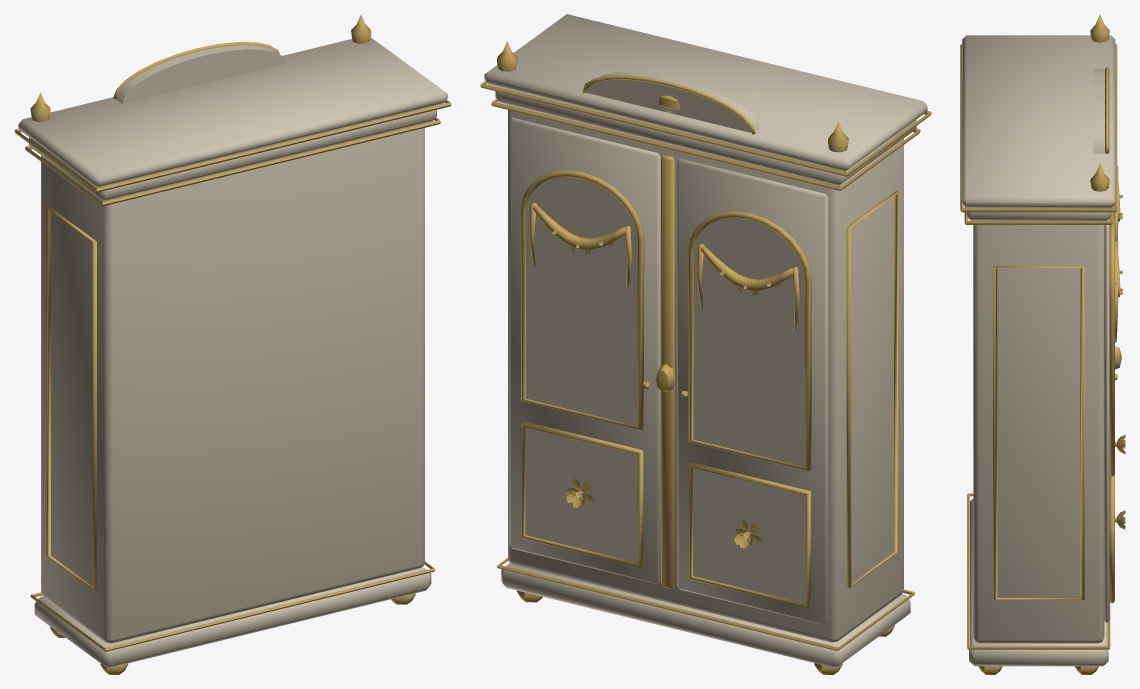
File: armoire_ivory.glb
3 renders of one model, left to right at view 1: azimuth 30°, elevation 25°; view 2: azimuth 150°, elevation 25°; view 3: azimuth 270°, elevation 25°, orthographic. The views are drawn at different scales.
Visible parts, largest first — view 1: armoire_ivory; view 2: armoire_ivory; view 3: armoire_ivory.
Part boxes in pixels (x1,y1,x2,y2): armoire_ivory: (14, 14, 451, 674); armoire_ivory: (480, 14, 931, 674); armoire_ivory: (960, 14, 1125, 674).
Size of what is drawn, in the model's own units: 1.7 by 2.5 by 0.72.
